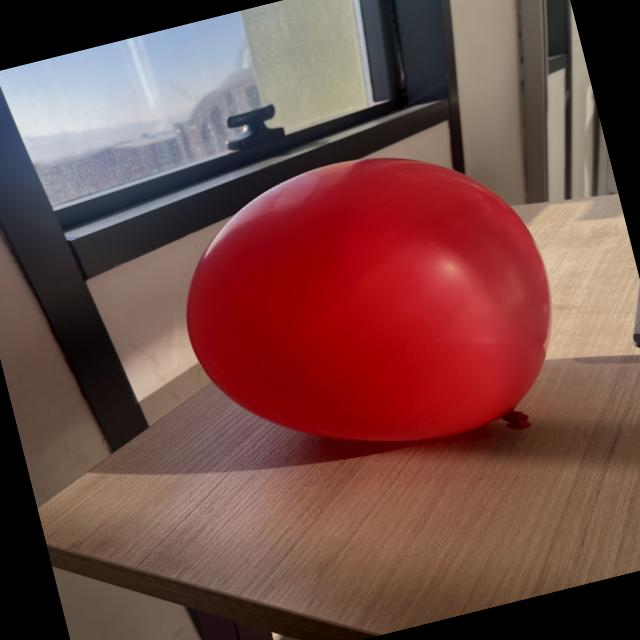balloon: (187, 158, 552, 440)
